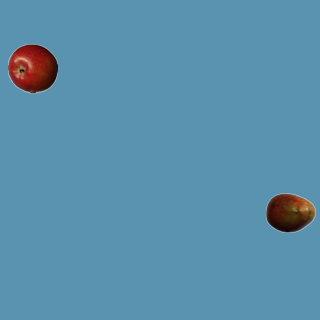Apple Braeburn: (7, 43, 57, 93)
Mango Red: (265, 187, 315, 237)
